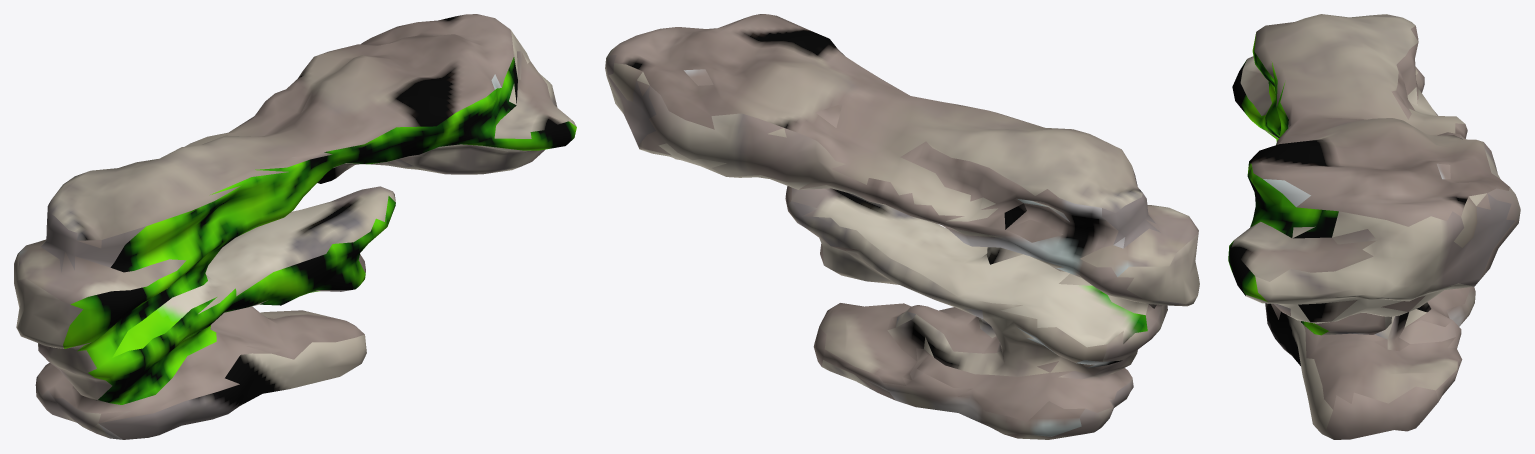
Rendered from Structure-15.fbx.
3 views of the same model, side by side, from view 1: azimuth 30°, elevation 25°; view 2: azimuth 150°, elevation 25°; view 3: azimuth 270°, elevation 25° (orthographic). The views are drawn at different scales.
Visible parts, largest first — view 1: Structure-15; view 2: Structure-15; view 3: Structure-15.
Part boxes in pixels (bbox=[...]): Structure-15: bbox=[14, 14, 576, 439]; Structure-15: bbox=[605, 14, 1199, 439]; Structure-15: bbox=[1228, 14, 1520, 439].
Size of the model in its own units: 6.89 by 3.42 by 2.65.
